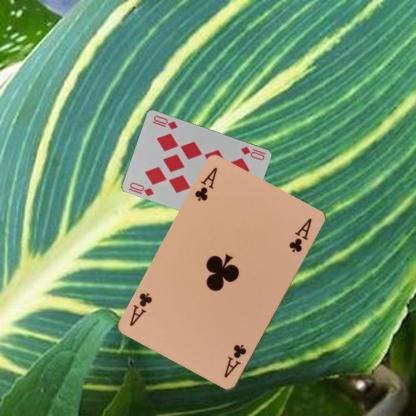10d: (238, 144, 267, 161), (127, 180, 156, 197)
Ac: (221, 342, 248, 380), (192, 165, 219, 203)
